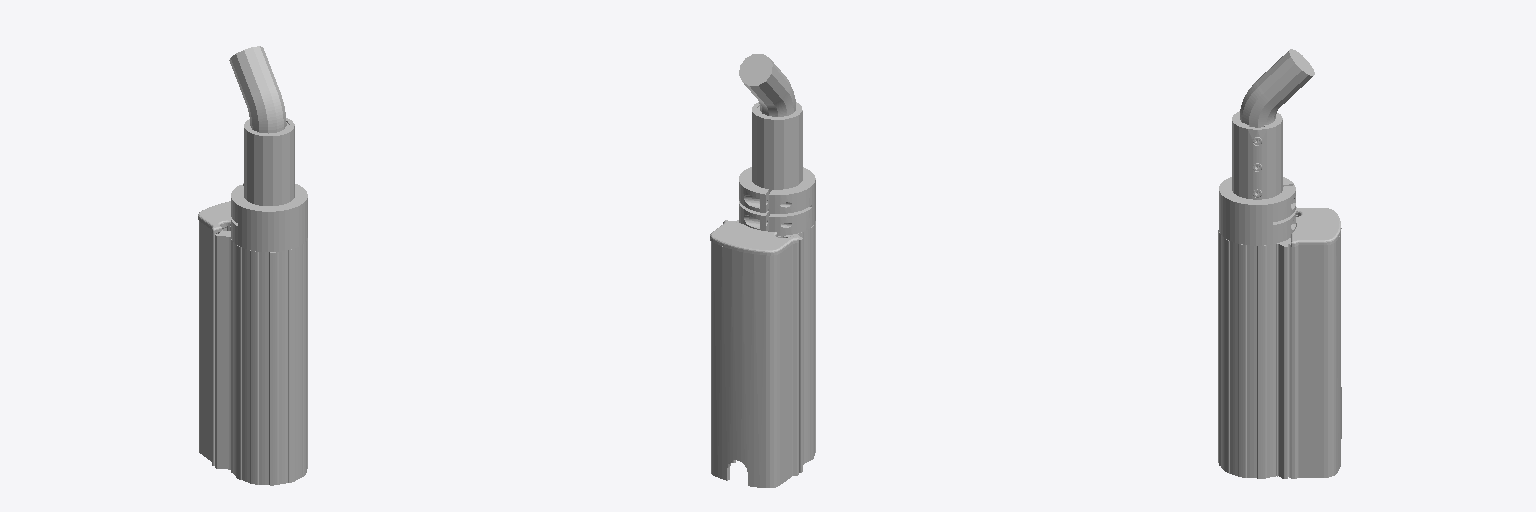
File: laserMount.obj
3 renders of one model, left to right at view 1: azimuth 30°, elevation 25°; view 2: azimuth 150°, elevation 25°; view 3: azimuth 270°, elevation 25°, orthographic.
Visible parts, largest first — view 1: Object002; view 2: Object002; view 3: Object002.
Part boxes in pixels (left/top/right/bottom): Object002: left=198, top=46, right=307, bottom=485; Object002: left=710, top=54, right=815, bottom=487; Object002: left=1218, top=49, right=1341, bottom=478.
Size of the model in its own units: 7.32 by 38.38 by 10.42.